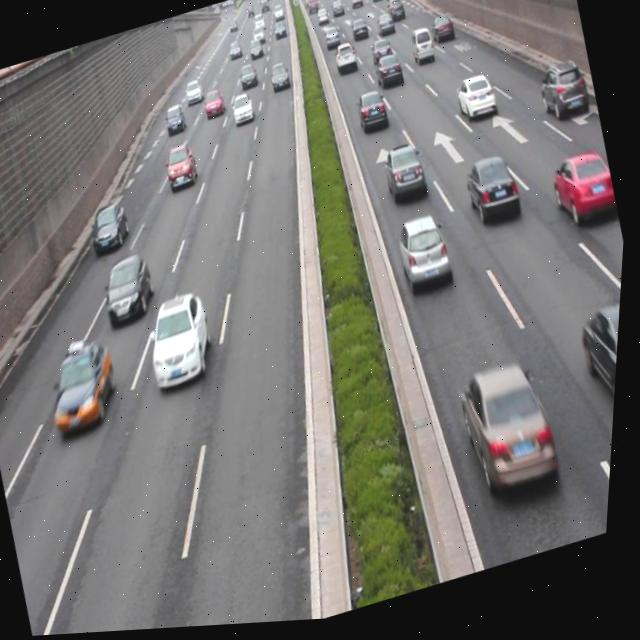car: (453, 359, 570, 506), (140, 287, 226, 395), (42, 339, 129, 438), (546, 150, 624, 239), (575, 303, 624, 431), (393, 214, 460, 303), (98, 251, 164, 331), (461, 155, 527, 234), (533, 60, 593, 134), (380, 144, 432, 213), (87, 200, 137, 260), (450, 75, 500, 133), (160, 142, 204, 198), (354, 89, 392, 139), (372, 54, 407, 98), (162, 103, 191, 142), (228, 93, 258, 128)
truck: (405, 27, 438, 73)
